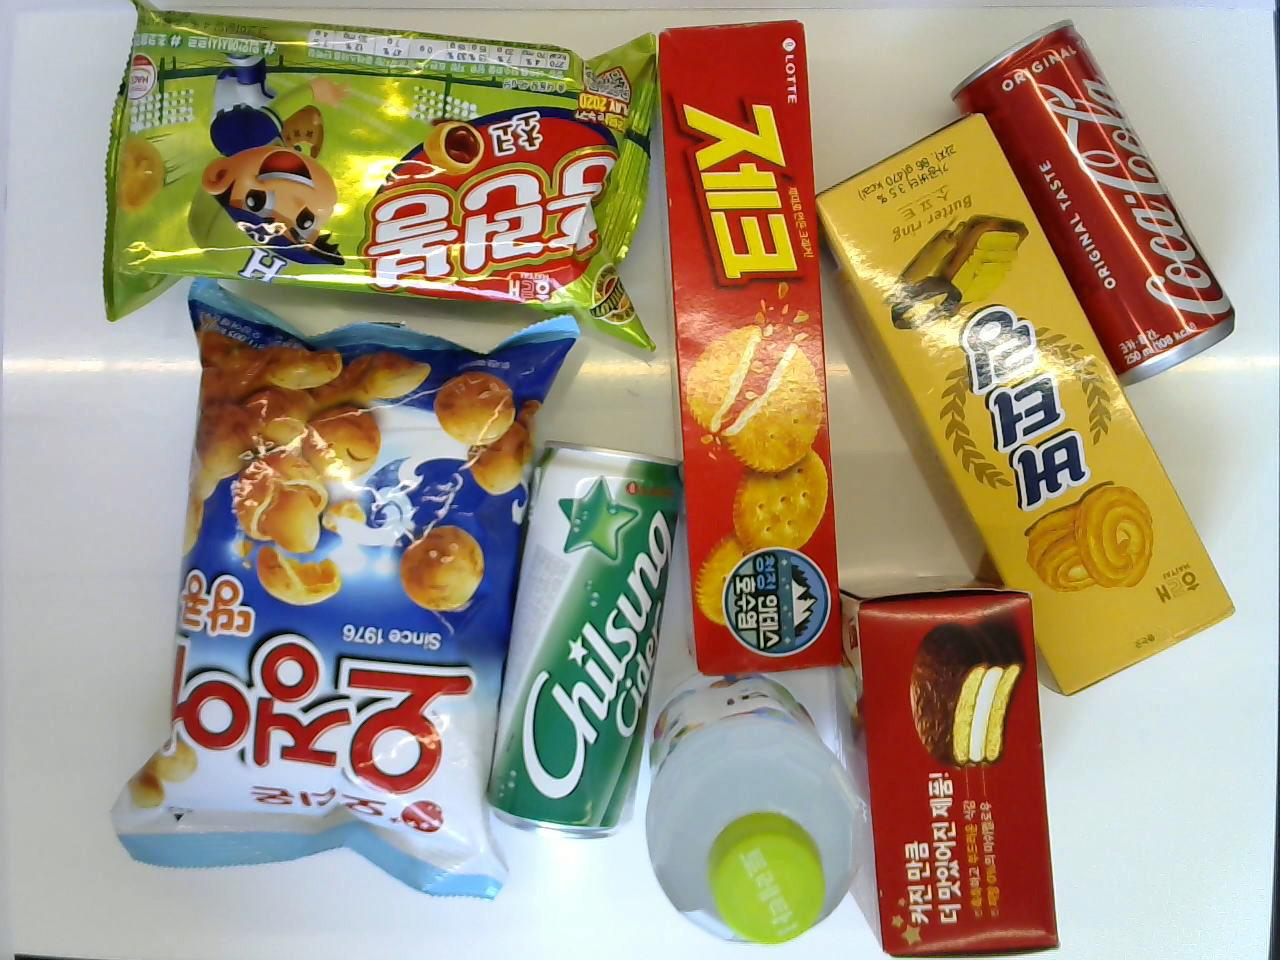buttering: (813, 112, 1238, 696)
chocopie: (833, 577, 1059, 958)
cidar: (482, 436, 683, 834)
coke: (943, 12, 1236, 390)
homerunball: (100, 0, 662, 365)
squid_peanut: (109, 276, 579, 902)
toreta: (642, 669, 866, 945)
zec: (658, 18, 845, 681)
